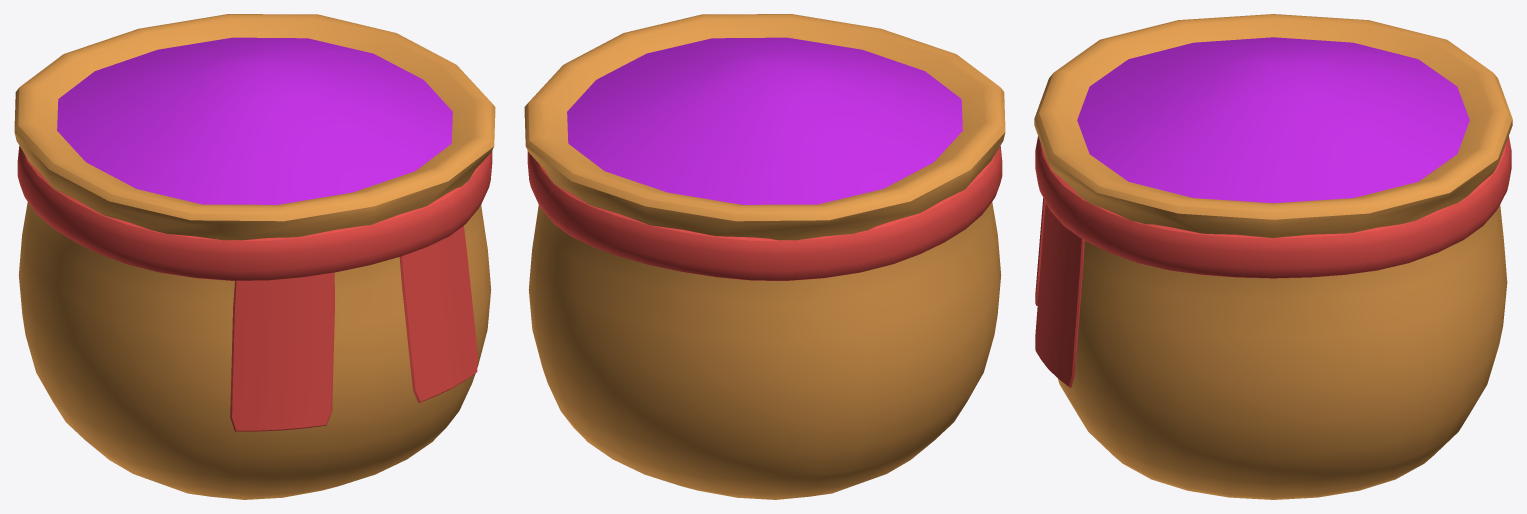
3 renders of one model, left to right at view 1: azimuth 30°, elevation 25°; view 2: azimuth 150°, elevation 25°; view 3: azimuth 270°, elevation 25°, orthographic.
Visible parts, largest first — view 1: Posion; view 2: Posion; view 3: Posion.
Boxes of the visible parts, <box> form: Posion: <box>14,14,495,499</box>; Posion: <box>524,14,1005,499</box>; Posion: <box>1034,14,1512,499</box>.
Size of the model in its own units: 49.68 by 45.07 by 49.68.
